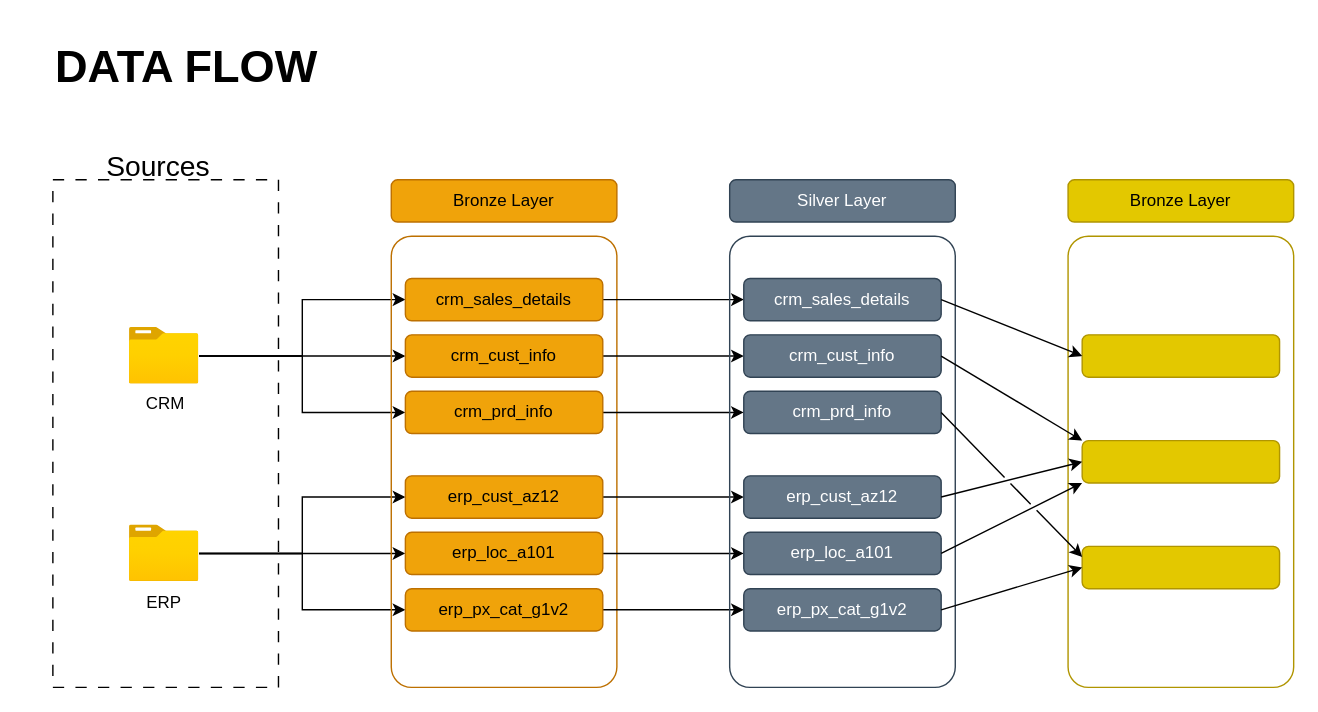
Some shapes in this 1318 by 712 pixel diagram are drawn without their labels. Each missing label, with the centre of its shape:
dim_customers: (1180,461)
dim_products: (1180,567)
fact_sales: (1180,355)
